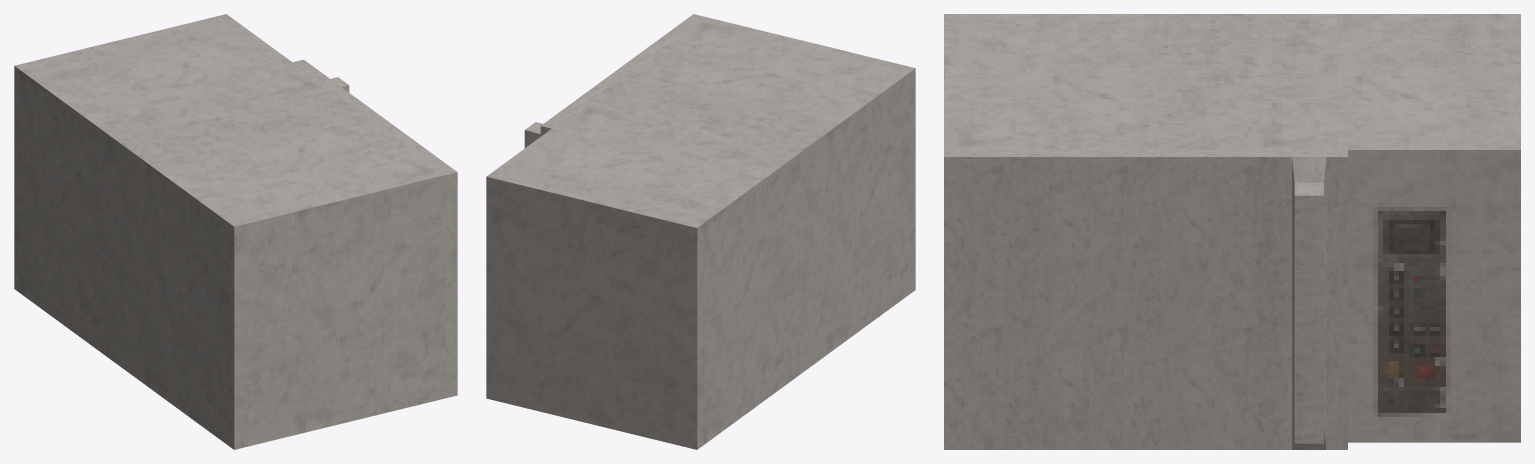
Rendered from Microwave.glb.
The picture shows the model from 3 angles, left to right: view 1: azimuth 30°, elevation 25°; view 2: azimuth 150°, elevation 25°; view 3: azimuth 270°, elevation 25°; orthographic projection. The views are drawn at different scales.
Visible parts, largest first — view 1: Cube, Cube.001; view 2: Cube, Cube.001; view 3: Cube, Cube.001.
Boxes of the visible parts, left/top/right/bottom form: Cube: left=14, top=14, right=446, bottom=449; Cube.001: left=293, top=59, right=457, bottom=397; Cube: left=486, top=17, right=915, bottom=449; Cube.001: left=524, top=14, right=704, bottom=147; Cube: left=944, top=14, right=1520, bottom=442; Cube.001: left=944, top=150, right=1347, bottom=449.
Bounding box in the file's own units: 0.7048 × 0.6046 × 1.08.
Materials: 1 (1 with a texture image).
